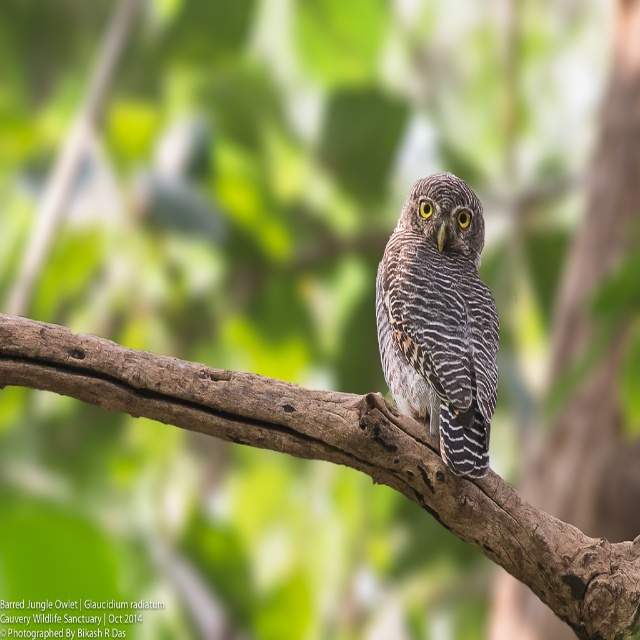Owl: (376, 175, 500, 479)
